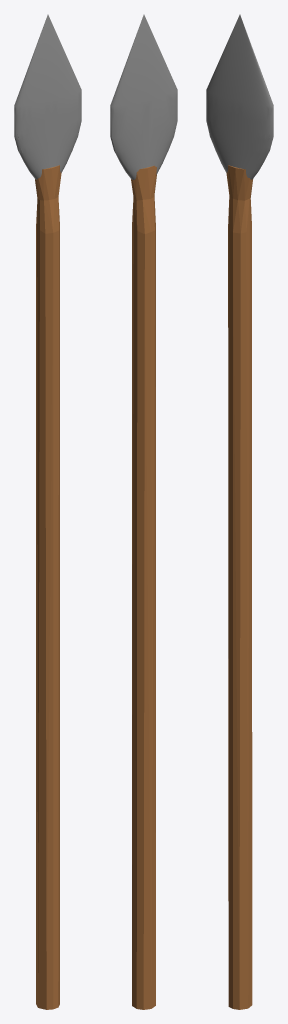
File: Lance.fbx
3 views of the same model, side by side, from view 1: azimuth 30°, elevation 25°; view 2: azimuth 210°, elevation 25°; view 3: azimuth 330°, elevation 25° (orthographic).
Parts seen in each view (by area): view 1: Lance; view 2: Lance; view 3: Lance.
Boxes of the visible parts, x1,y1,x2,y2 form: Lance: [14, 14, 81, 1009]; Lance: [110, 14, 177, 1009]; Lance: [206, 14, 273, 1009].
Size of the model in its own units: 223 by 3149 by 70.71.
